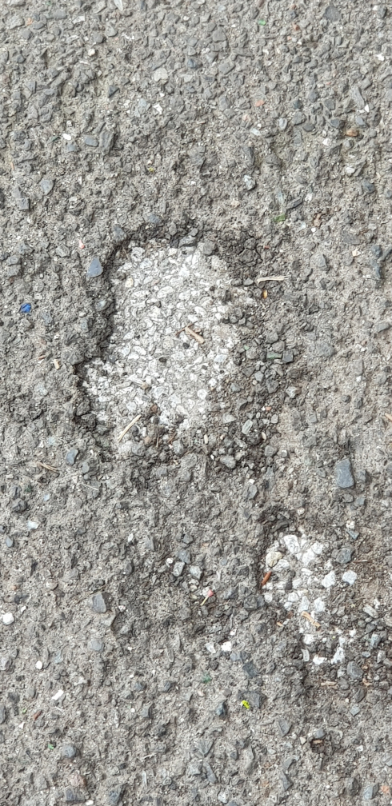pothole: (71, 217, 277, 467)
